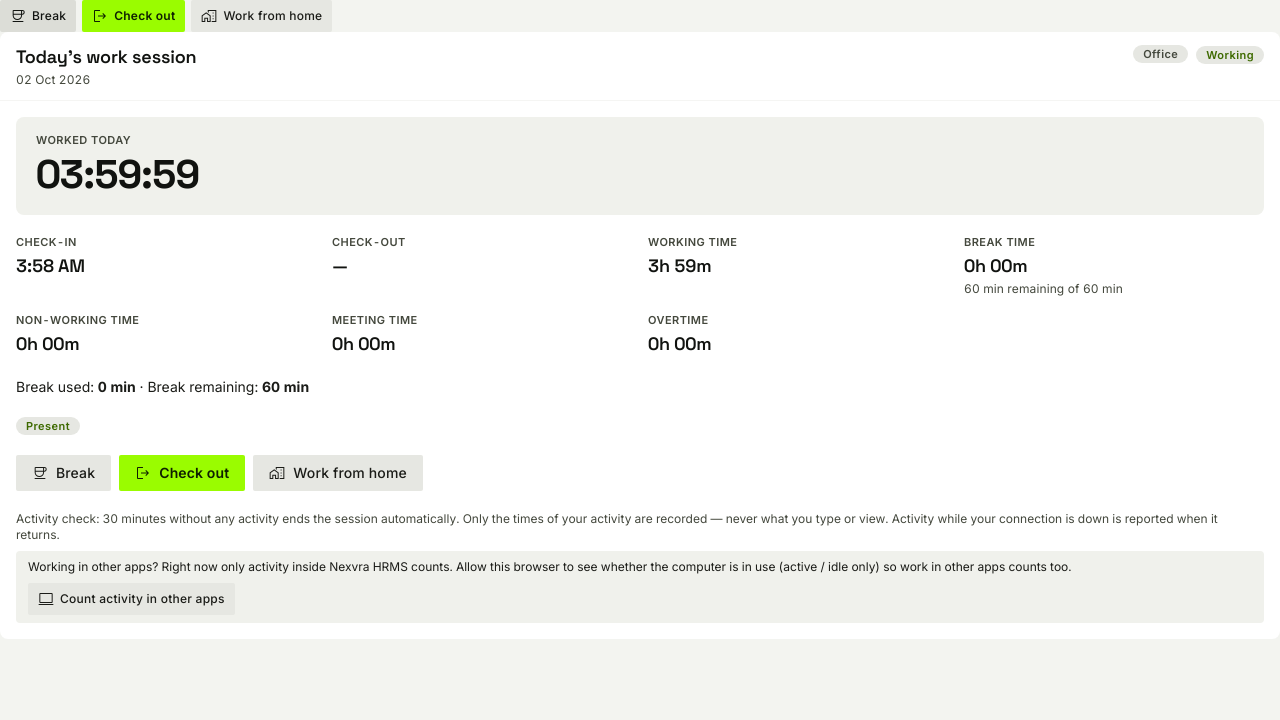
Test: WorkSessionCard › requires a task response before checkout (popup), then checks out
Click the button "Check out" below "Present" at coordinates (182, 473), box [119, 455, 245, 491]
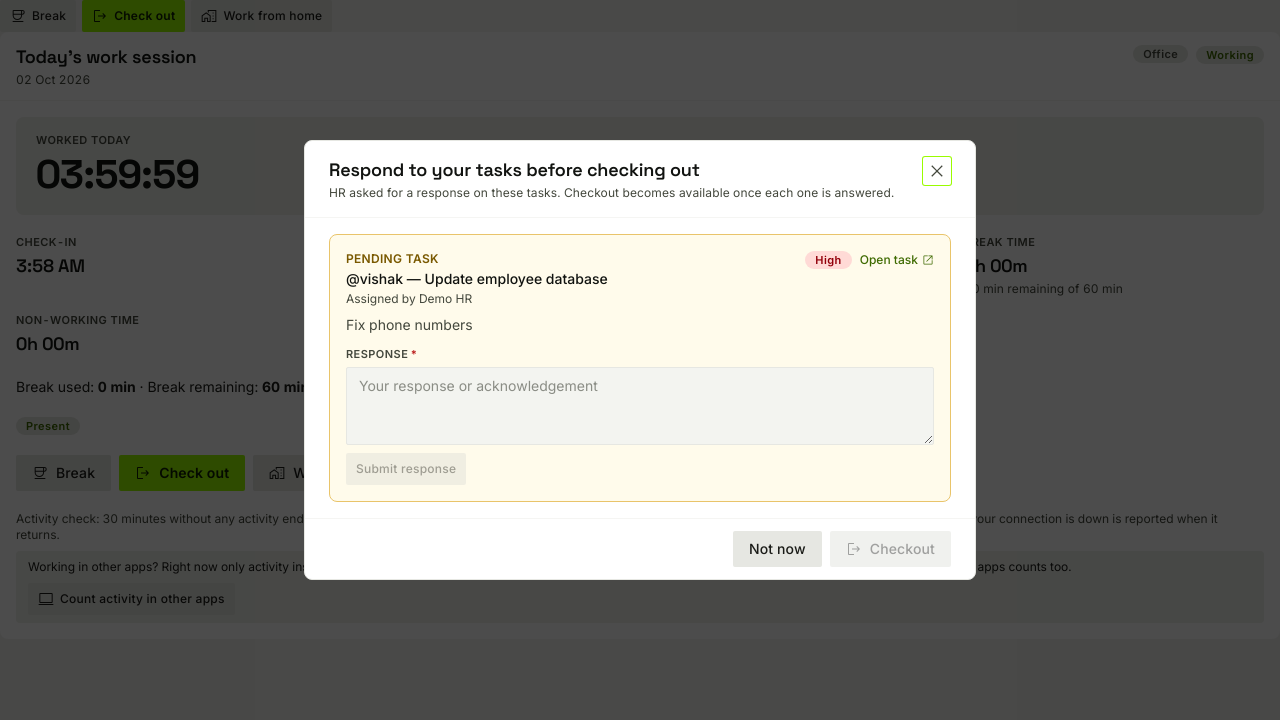
Check: the text "@vishak — Update employee database" is shown, box [346, 269, 608, 289]
Check: the button "Checkout" is disabled, box [830, 531, 951, 567]
Type "Updated the records." into the text box labelled "Response*" at coordinates (640, 406), box [346, 367, 934, 445]
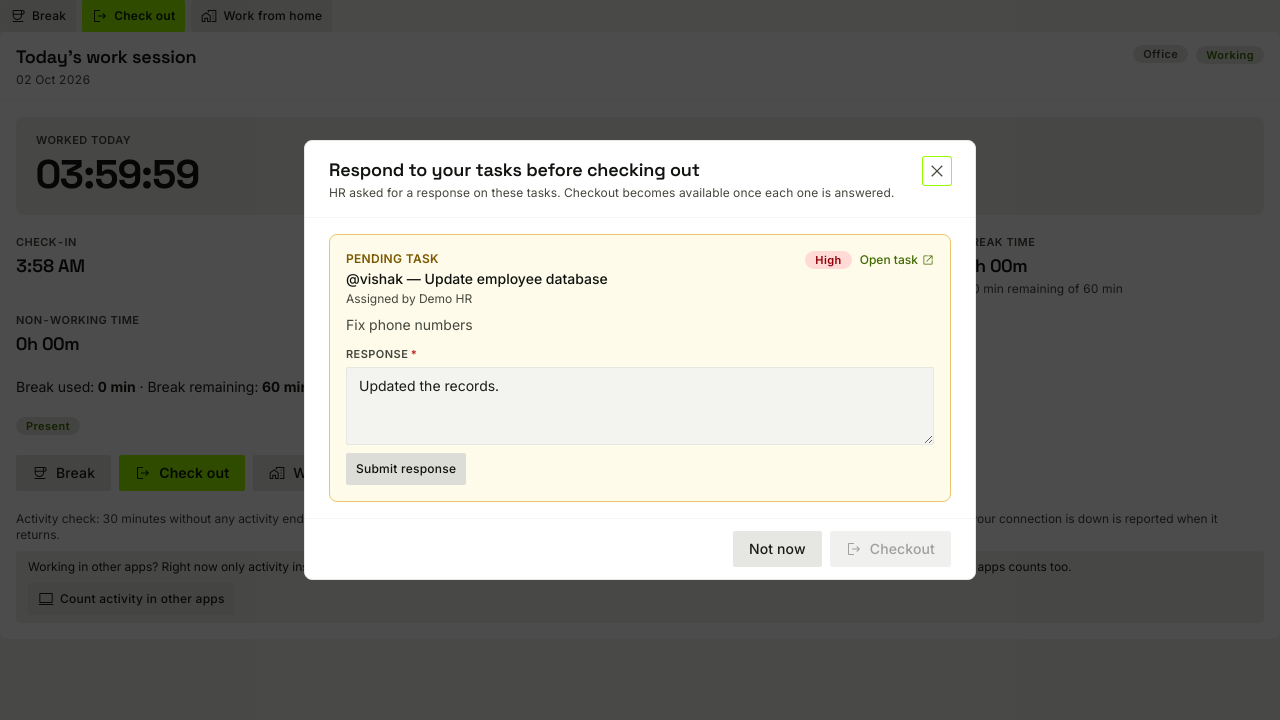
Click the button "Submit response" at coordinates (406, 469), box [346, 453, 466, 485]
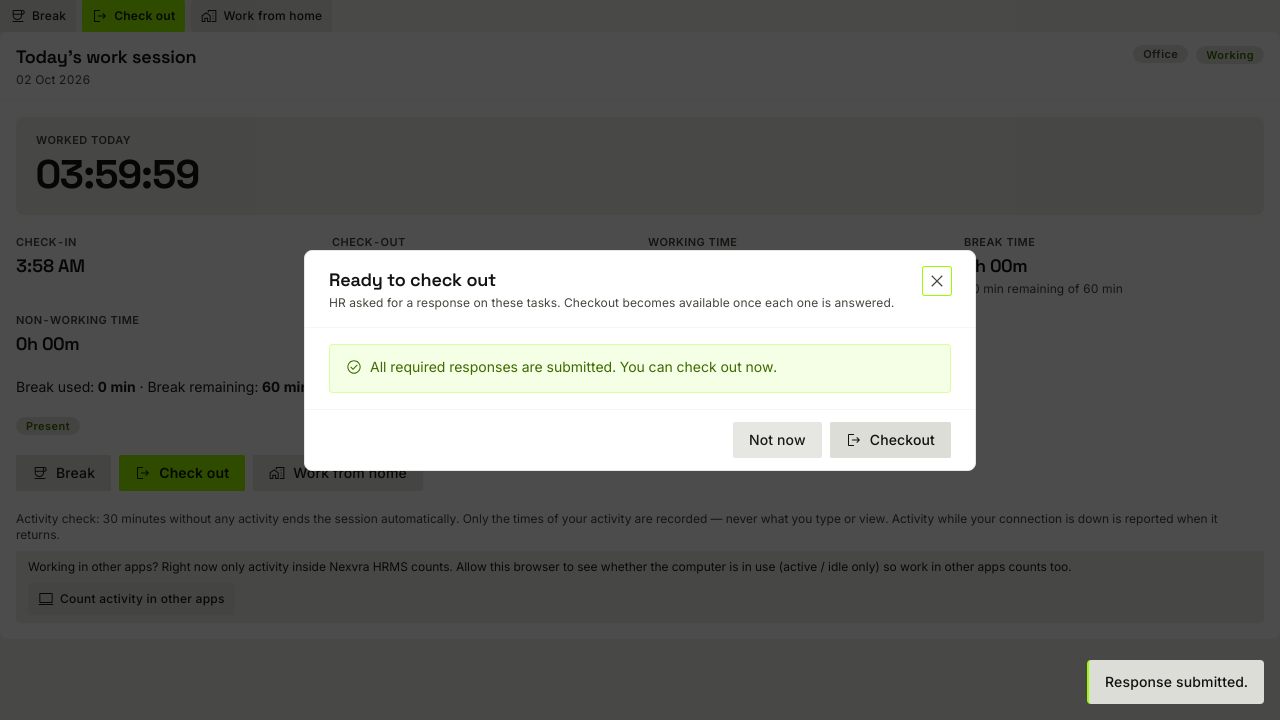
Check: the text "All required responses are submitted. You can check out now." is shown, box [346, 356, 777, 376]
Click the button "Checkout" at coordinates (890, 440), box [830, 422, 951, 458]
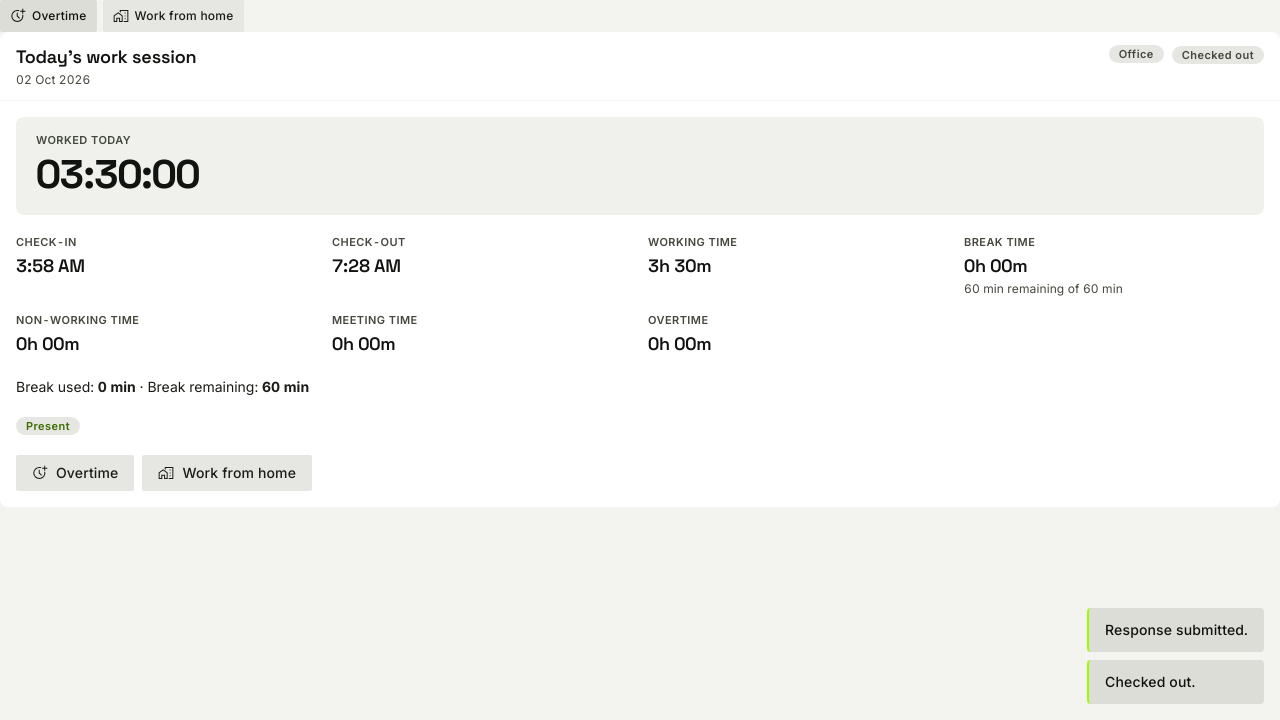
Check: the text "Checked out." is shown, box [1087, 660, 1264, 704]
